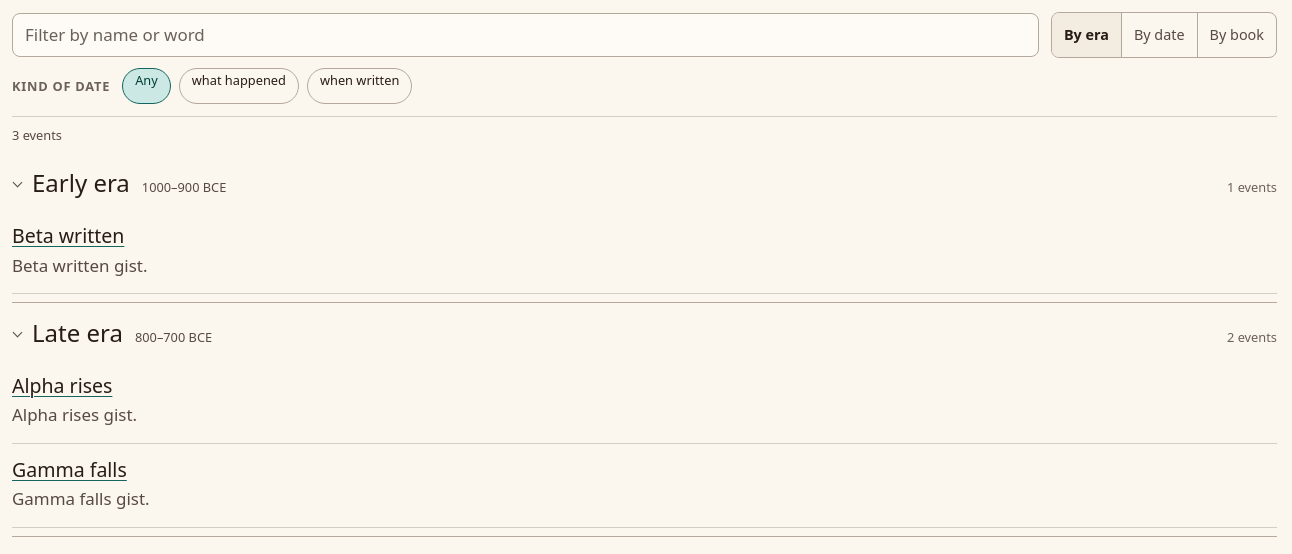
Test: CatalogueIndex › a facet narrows the list
Click the radio button labelled "when written": [360, 86] box x1=307 y1=68 x2=412 y2=104
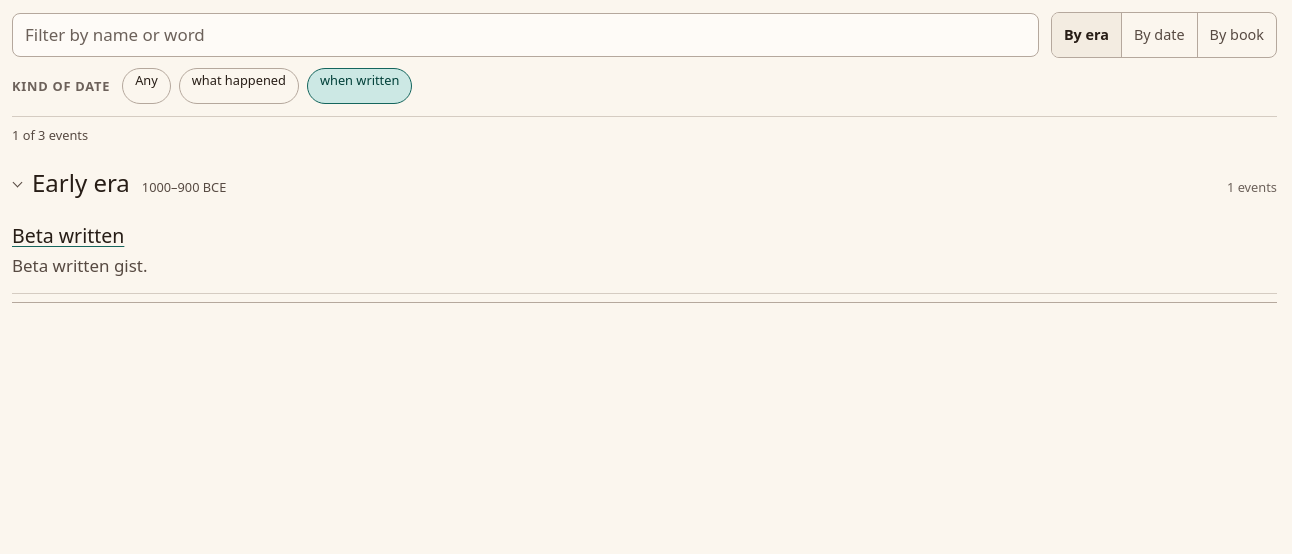
Expected: the text "1 of 3 events" is shown, x1=12 y1=126 x2=88 y2=144
Expected: the link "Alpha rises" is gone
